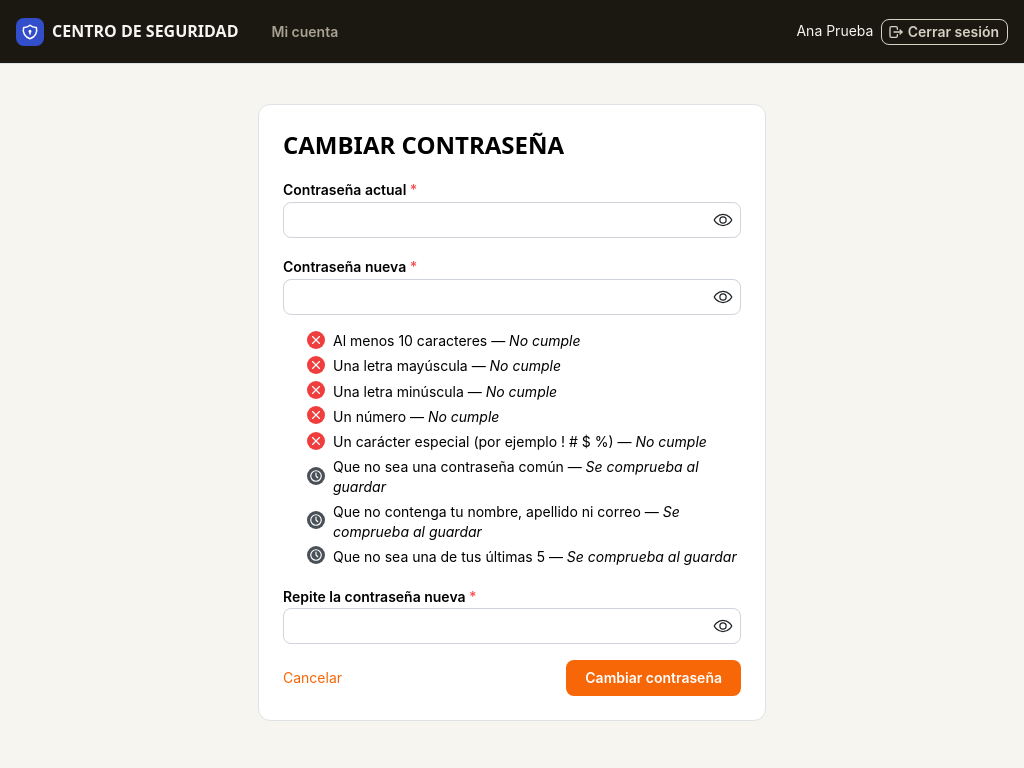
FRONT-10 cambio de contraseña › actual incorrecta: mensaje bajo el campo sin cerrar la sesión
Type "mala" into the password field labelled "Contraseña actual *" at {"x": 512, "y": 220}, box x1=284 y1=203 x2=740 y2=237
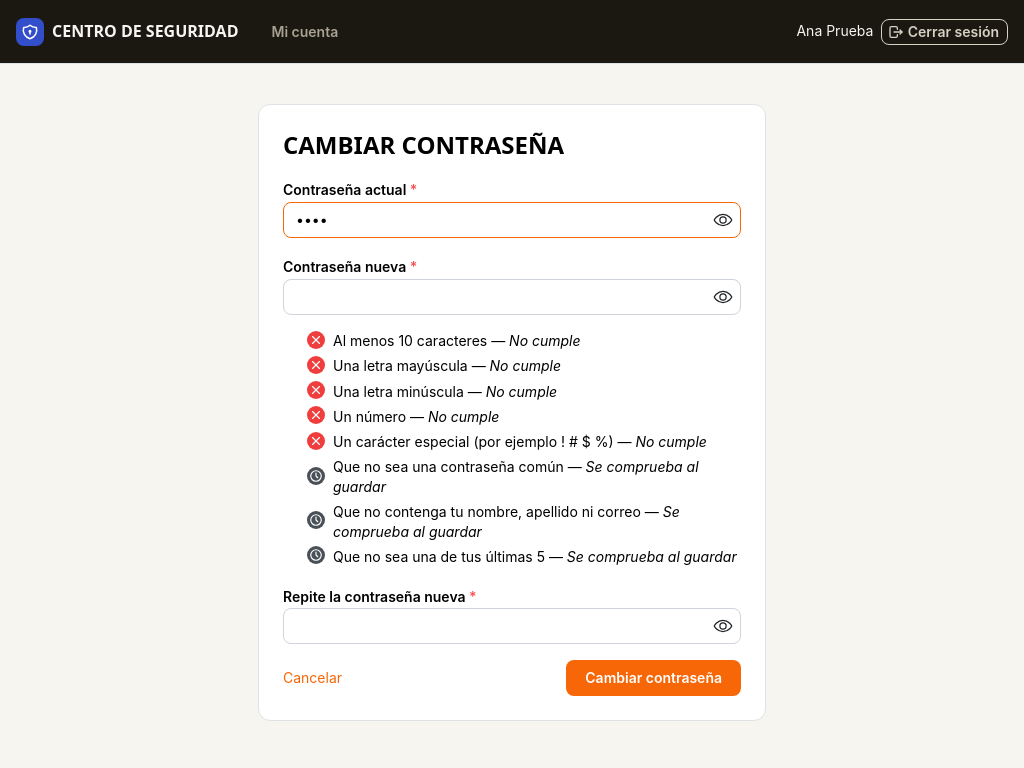
Type "Nueva-Segura-2026!" into the password field labelled "Contraseña nueva *" at {"x": 512, "y": 297}, box x1=284 y1=280 x2=740 y2=314
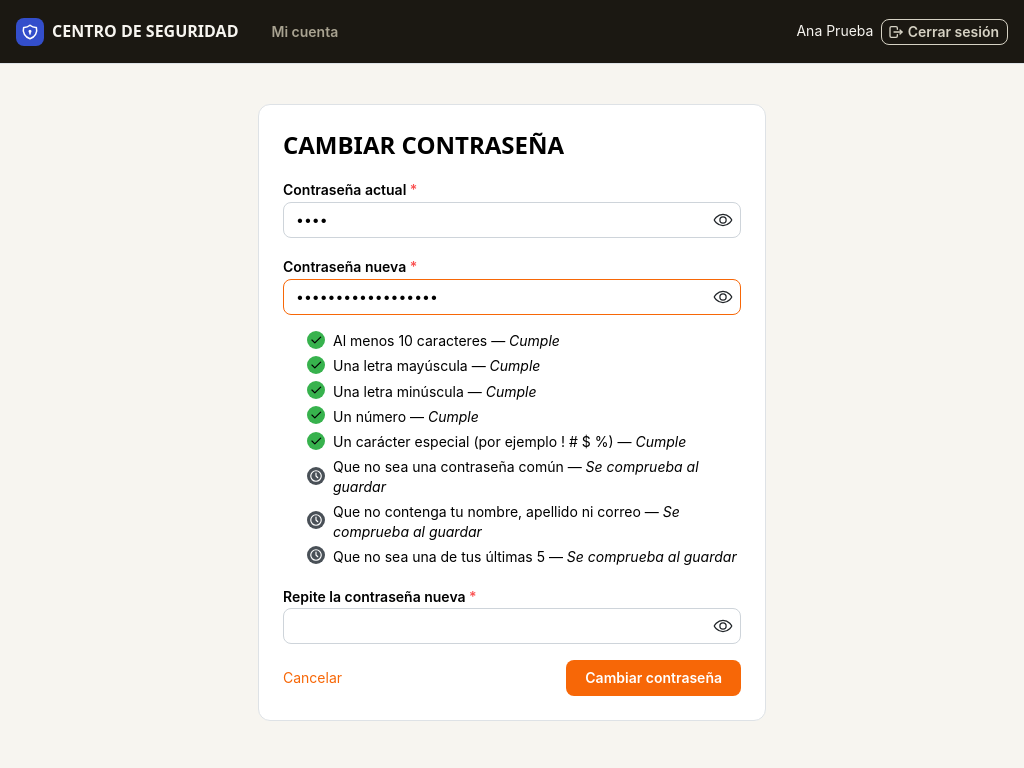
Type "Nueva-Segura-2026!" into the password field labelled "Repite la contraseña nueva *" at {"x": 512, "y": 626}, box x1=284 y1=609 x2=740 y2=643
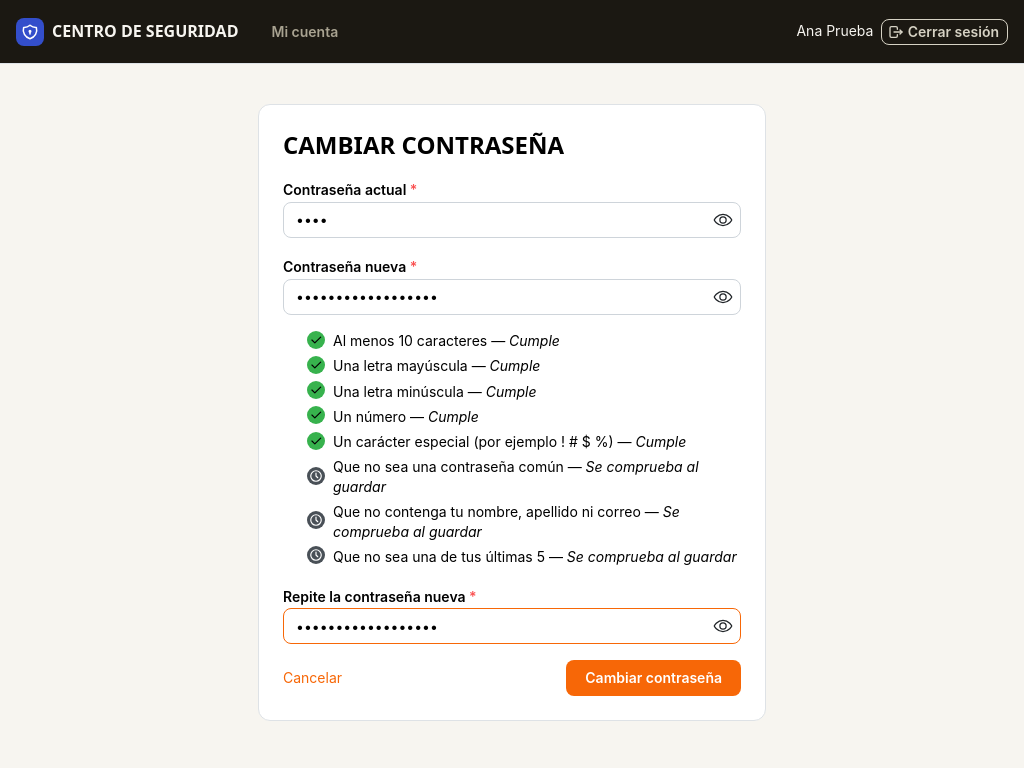
Click the button "Cambiar contraseña" at {"x": 654, "y": 678}, box x1=566 y1=660 x2=741 y2=696
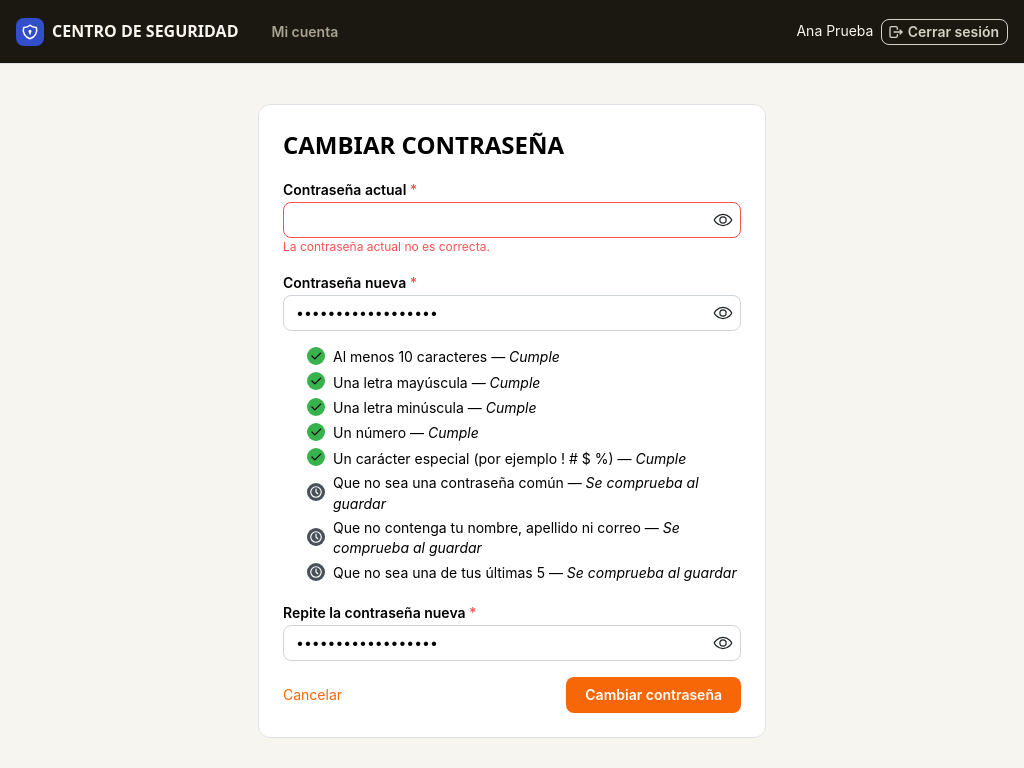
expect the text "La contraseña actual no es correcta." is shown: met, box x1=283 y1=239 x2=490 y2=254
